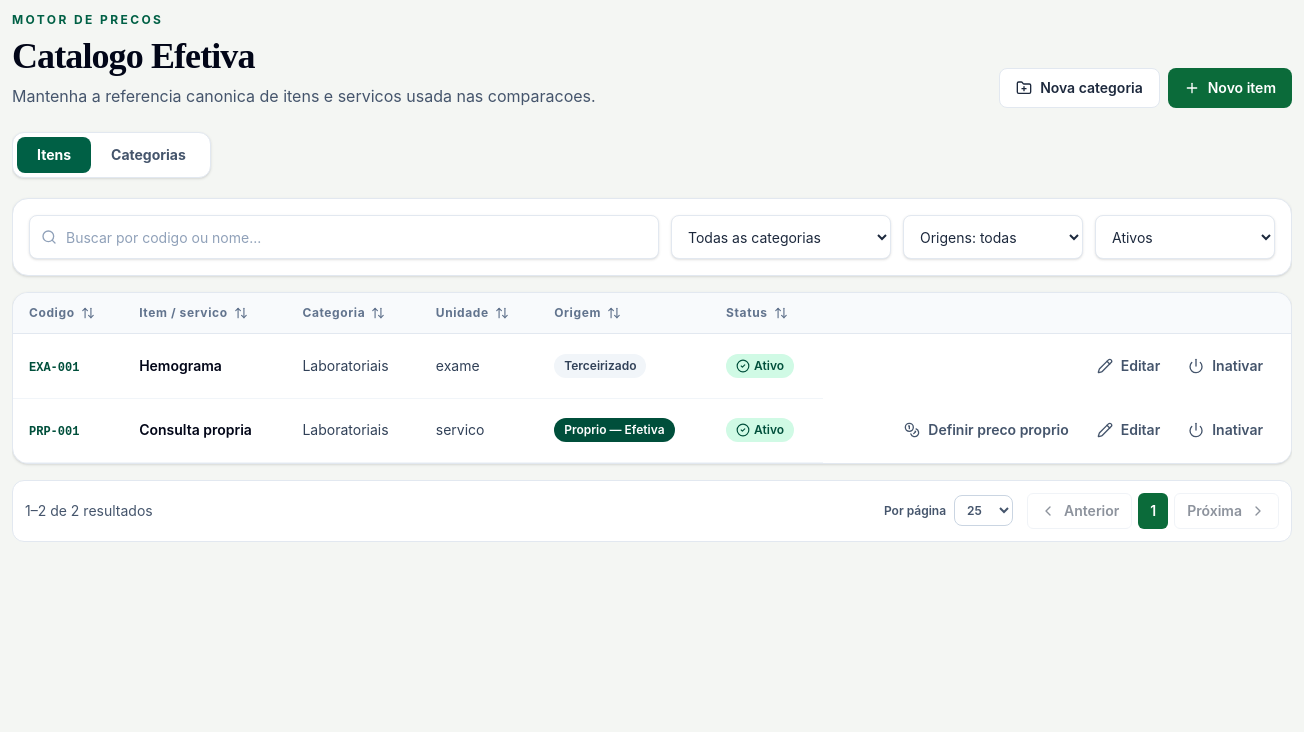
it: CatalogPage › filtra itens por origem propria e navega para precos proprios
Select "Proprio — Efetiva" in the dropdown named "Filtrar itens por origem": (993, 237) [903,215,1083,259]
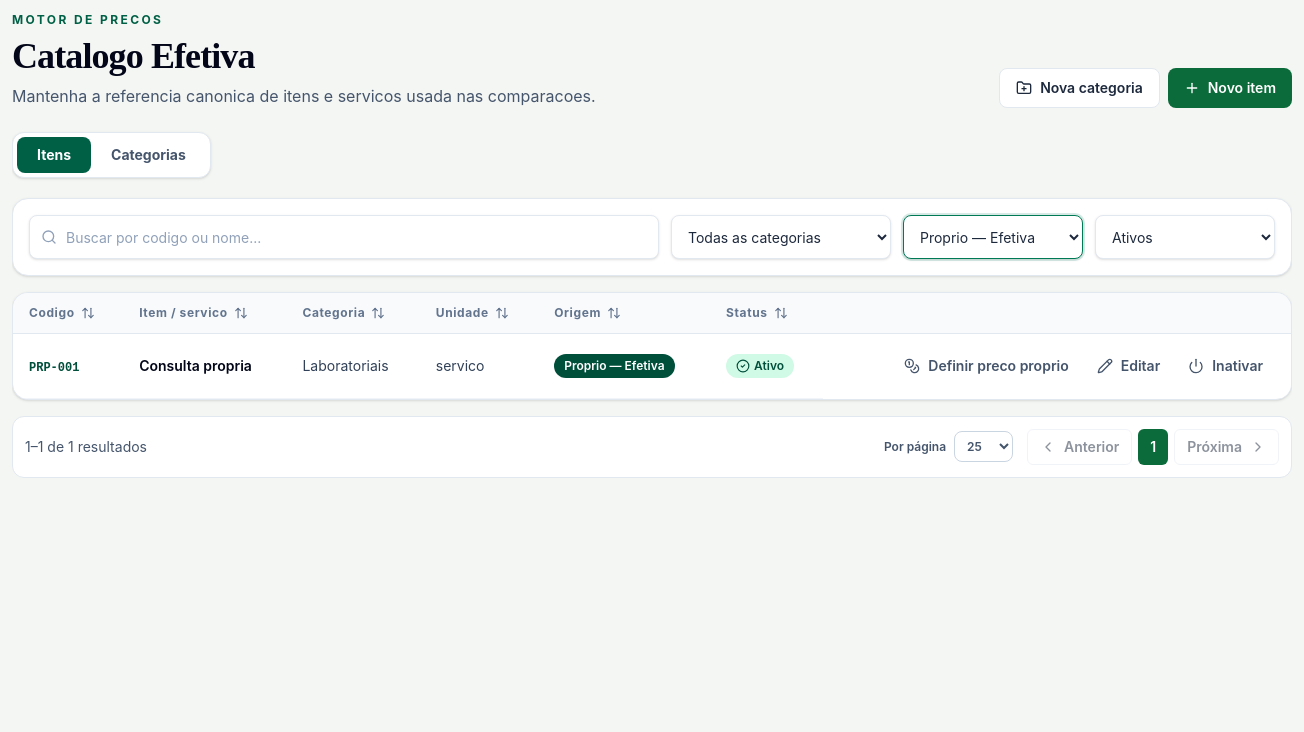
expect the text "Consulta propria" is shown: met, box [139,357,252,374]
expect the text "Hemograma" is gone: met
